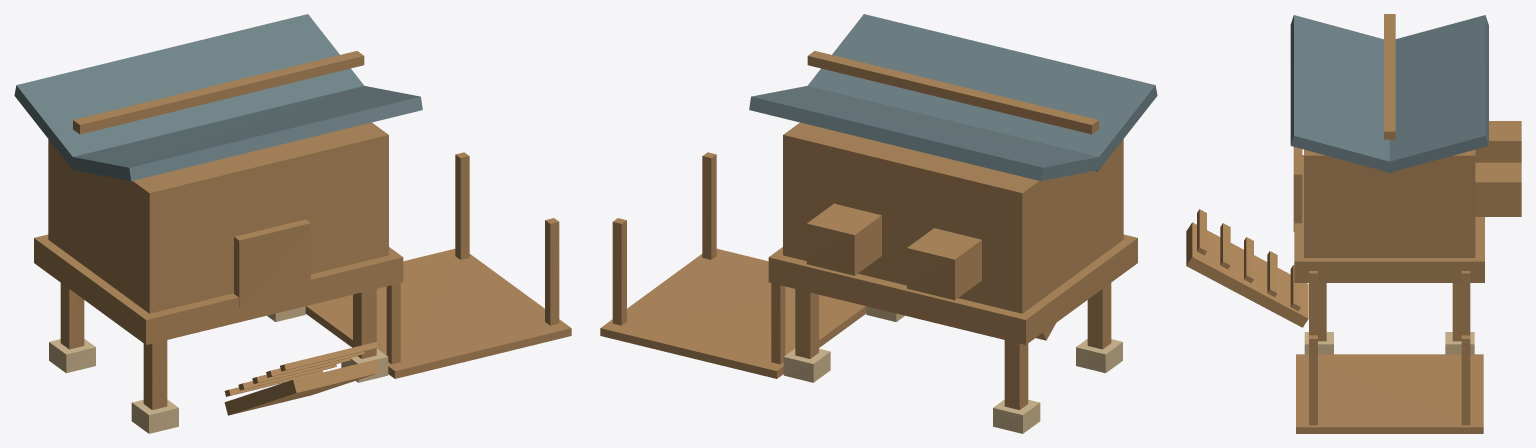
File: Chicken-Coop.glb
The picture shows the model from 3 angles, left to right: view 1: azimuth 30°, elevation 25°; view 2: azimuth 150°, elevation 25°; view 3: azimuth 270°, elevation 25°; orthographic projection. The views are drawn at different scales.
Parts seen in each view (by area): view 1: wind-pump-static-chicken-coop-timber, wind-pump-static-chicken-coop-galvanized-roof, wind-pump-static-chicken-coop-dark-mesh-frame, wind-pump-static-chicken-coop-stone-feet, wind-pump-static-chicken-coop-nesting-box; view 2: wind-pump-static-chicken-coop-timber, wind-pump-static-chicken-coop-galvanized-roof, wind-pump-static-chicken-coop-dark-mesh-frame, wind-pump-static-chicken-coop-nesting-box, wind-pump-static-chicken-coop-stone-feet; view 3: wind-pump-static-chicken-coop-timber, wind-pump-static-chicken-coop-galvanized-roof, wind-pump-static-chicken-coop-dark-mesh-frame, wind-pump-static-chicken-coop-nesting-box, wind-pump-static-chicken-coop-stone-feet.
Part boxes in pixels (x1=…): wind-pump-static-chicken-coop-timber: x1=34, y1=122, x2=403, y2=415; wind-pump-static-chicken-coop-galvanized-roof: x1=14, y1=14, x2=422, y2=181; wind-pump-static-chicken-coop-dark-mesh-frame: x1=60, y1=51, x2=571, y2=409; wind-pump-static-chicken-coop-stone-feet: x1=49, y1=306, x2=388, y2=433; wind-pump-static-chicken-coop-nesting-box: x1=224, y1=342, x2=378, y2=396; wind-pump-static-chicken-coop-timber: x1=768, y1=122, x2=1137, y2=344; wind-pump-static-chicken-coop-galvanized-roof: x1=749, y1=14, x2=1157, y2=181; wind-pump-static-chicken-coop-dark-mesh-frame: x1=600, y1=51, x2=1111, y2=409; wind-pump-static-chicken-coop-nesting-box: x1=806, y1=203, x2=981, y2=300; wind-pump-static-chicken-coop-stone-feet: x1=783, y1=306, x2=1122, y2=433; wind-pump-static-chicken-coop-timber: x1=1186, y1=147, x2=1484, y2=327; wind-pump-static-chicken-coop-galvanized-roof: x1=1290, y1=15, x2=1488, y2=172; wind-pump-static-chicken-coop-dark-mesh-frame: x1=1296, y1=14, x2=1483, y2=433; wind-pump-static-chicken-coop-nesting-box: x1=1197, y1=121, x2=1521, y2=310; wind-pump-static-chicken-coop-stone-feet: x1=1304, y1=332, x2=1474, y2=354.
Bounding box in the file's own units: 2.97 × 1.79 × 2.29.
